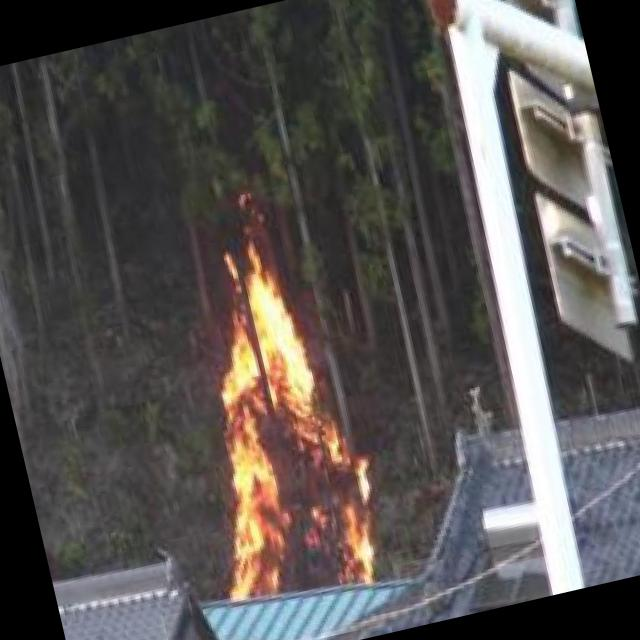Fire: (156, 223, 388, 621)
